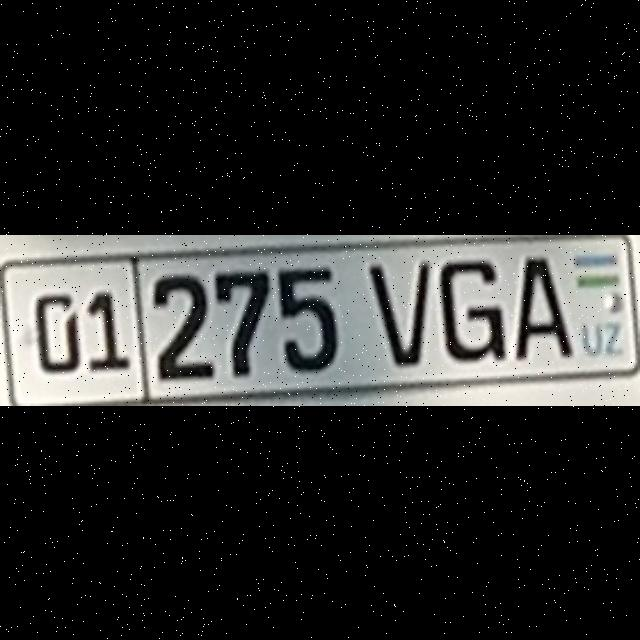0: (34, 291, 78, 371)
1: (84, 291, 128, 369)
2: (151, 272, 213, 376)
5: (276, 266, 336, 366)
7: (212, 268, 268, 374)
A: (512, 255, 572, 358)
G: (439, 258, 503, 359)
V: (366, 262, 428, 364)
